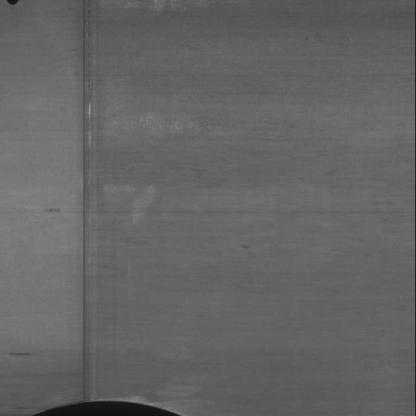punching_hole: (3, 0, 26, 8)
welding_line: (66, 0, 98, 409)
